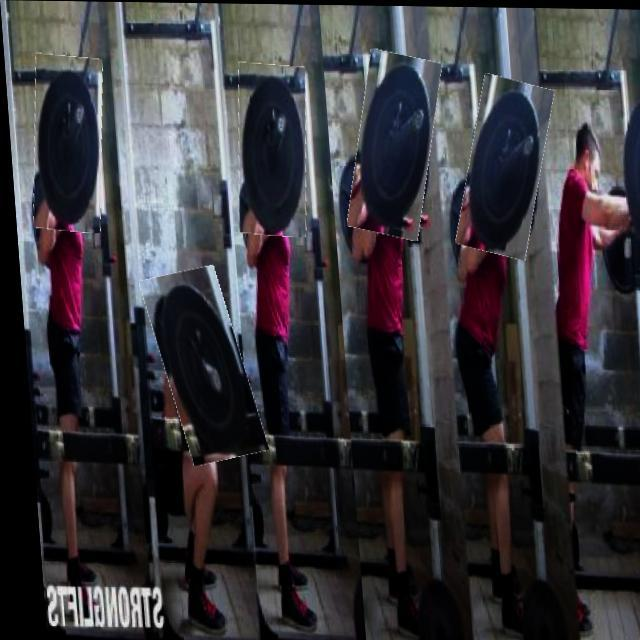barbell: (144, 267, 254, 464), (344, 51, 444, 238), (453, 75, 553, 258), (24, 55, 108, 233), (230, 63, 311, 236)
